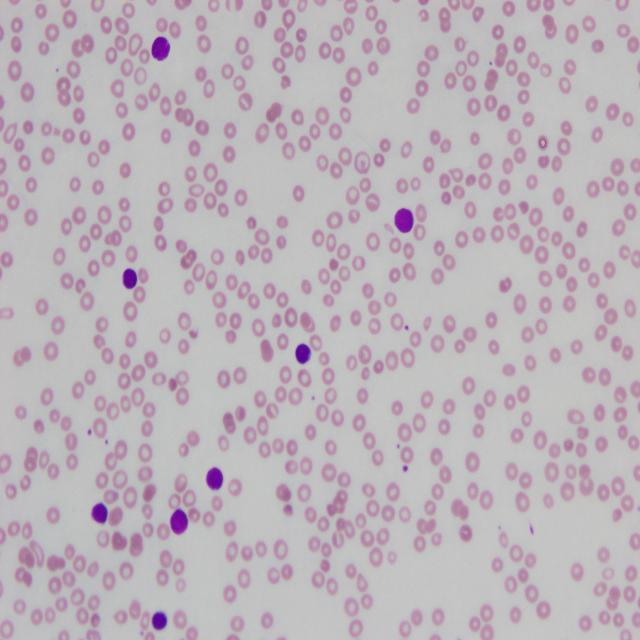cell: (170, 508, 189, 535), (395, 208, 414, 233), (151, 37, 170, 60), (206, 467, 224, 490), (91, 503, 108, 523), (122, 268, 138, 288), (295, 343, 311, 363), (152, 612, 168, 630)
